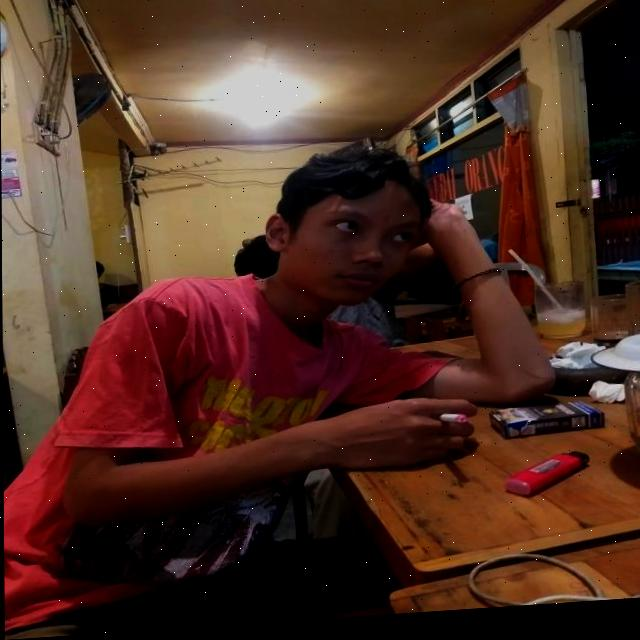cigarette: (436, 415, 467, 432)
